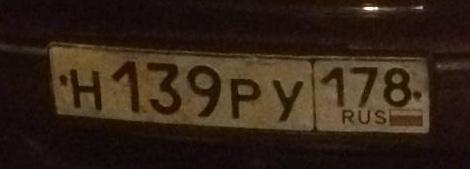license-plateSW: (46, 40, 431, 134)
